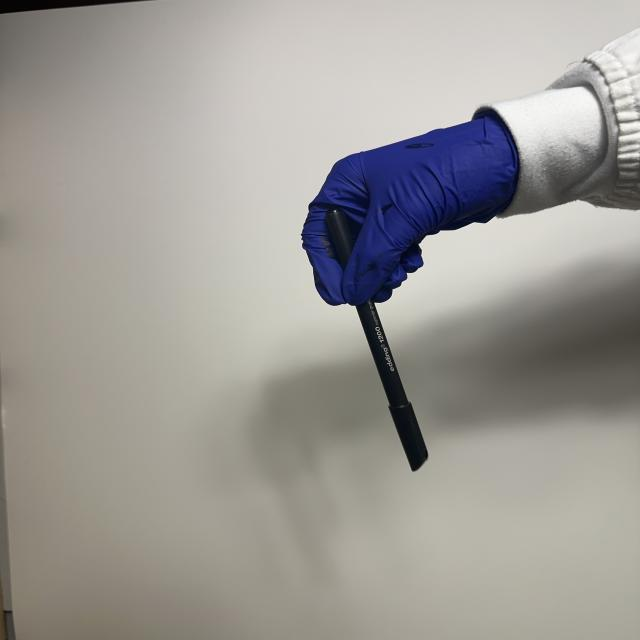gloves_contaminated: (302, 112, 519, 304)
